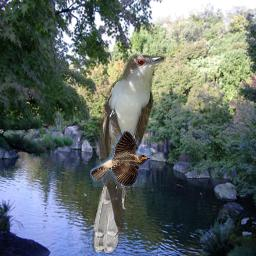Cuckoo: (91, 51, 167, 253)
Swallow: (90, 130, 152, 187)
